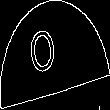O_S: (40, 26, 70, 84)
